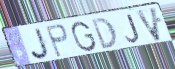D: (90, 16, 119, 51)
G: (71, 20, 98, 53)
J: (29, 27, 52, 61), (125, 13, 141, 44)
P: (44, 23, 70, 59)
V: (134, 6, 163, 43)
